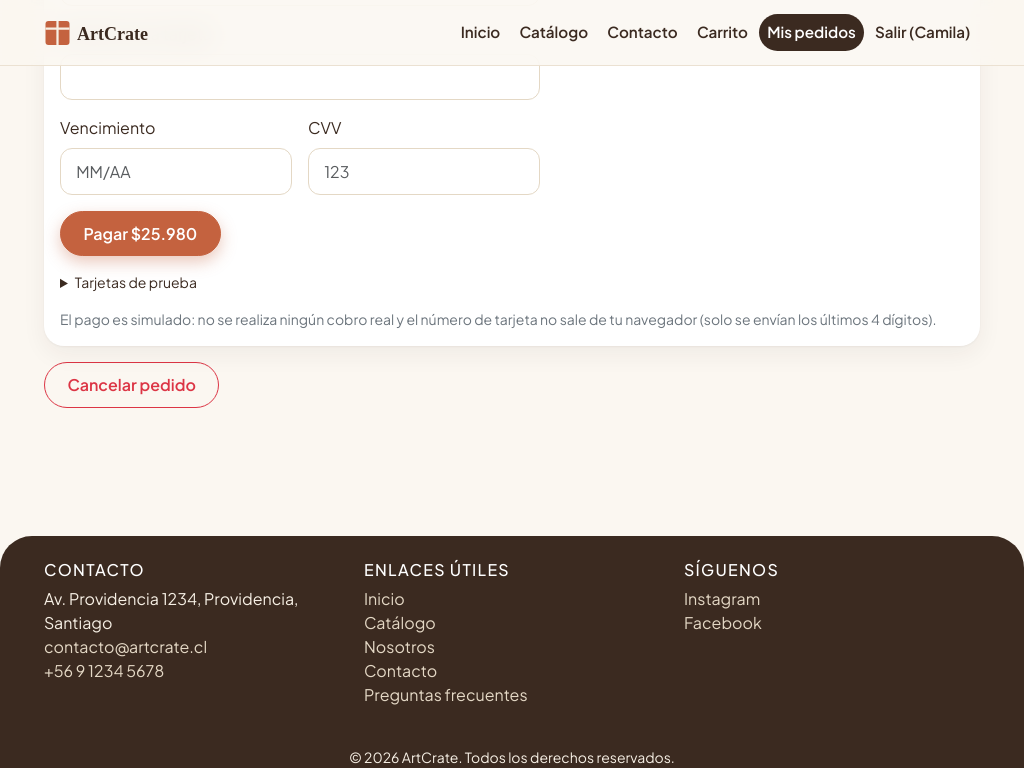
it: Detalle de pedido (cliente) › cancelar › al confirmar cancela el pedido y la pantalla pasa a "cancelado"
(page scrolled)
Step 1. Click the button "Cancelar pedido" → point(132, 385), box top-left (44, 362), bottom-right (219, 408)
(page scrolled)
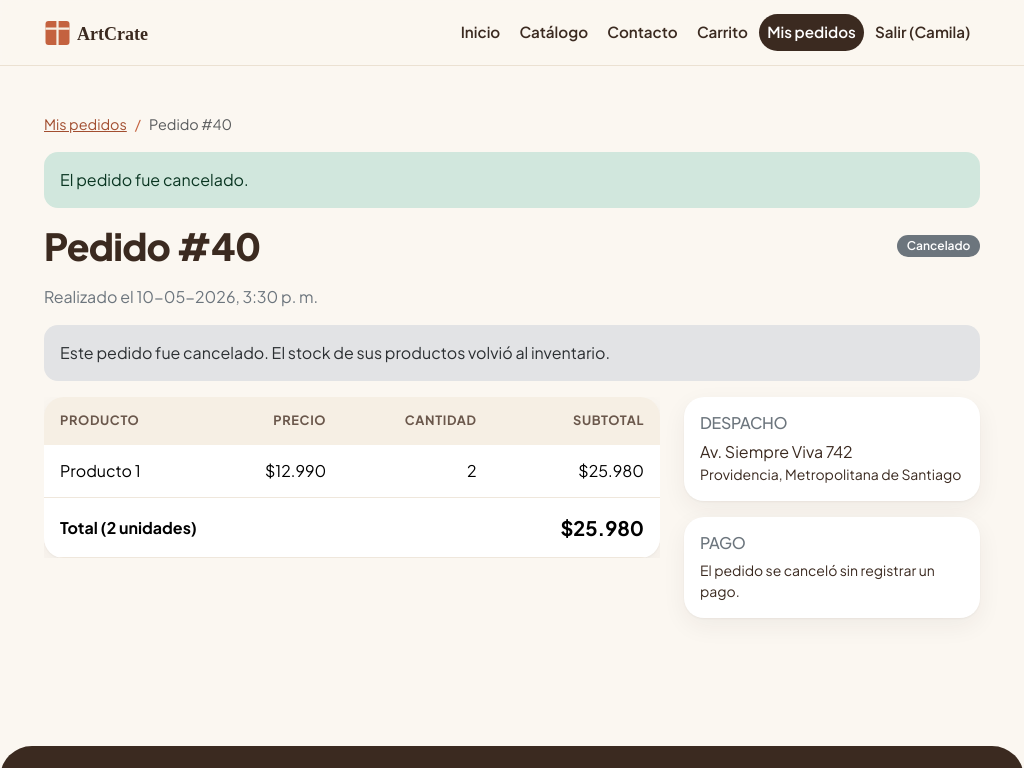
expect the text "El pedido fue cancelado." is shown: met, box top-left (44, 152), bottom-right (980, 208)
